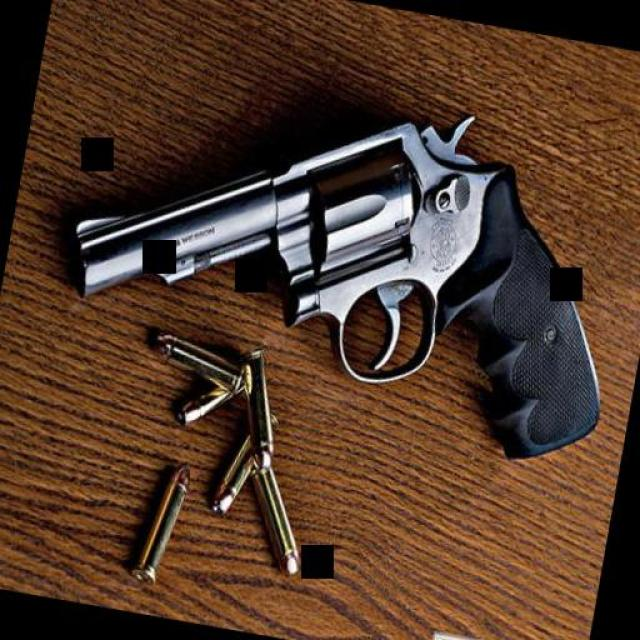gun: (39, 34, 640, 502)
